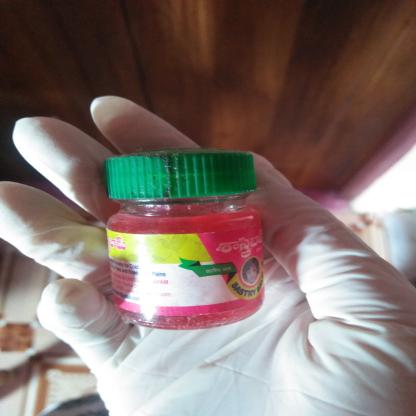gloved_hand: (2, 87, 413, 414)
